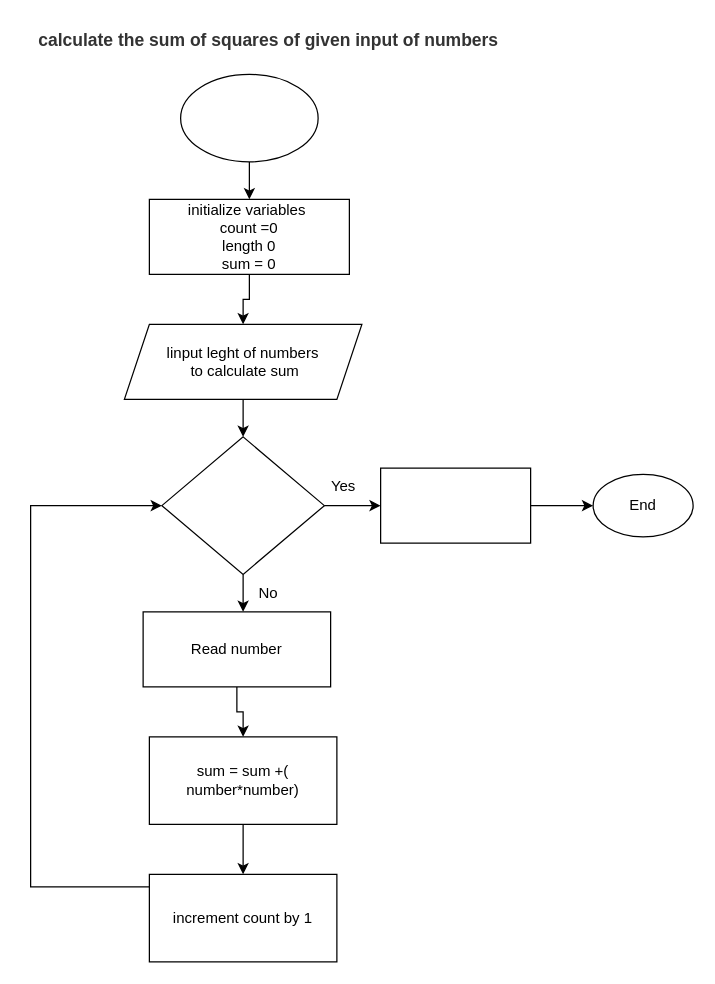
This 715x984 diagram has some shape labels left out. The centre of each missing label's shape, as x and y in pixels:
is count < length ?: [242,505]
Print Sum: [455,505]
Start: [248,117]
